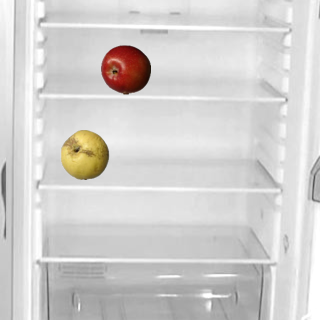Apple Braeburn: (100, 44, 150, 94)
Apple Golden 1: (59, 129, 109, 179)
